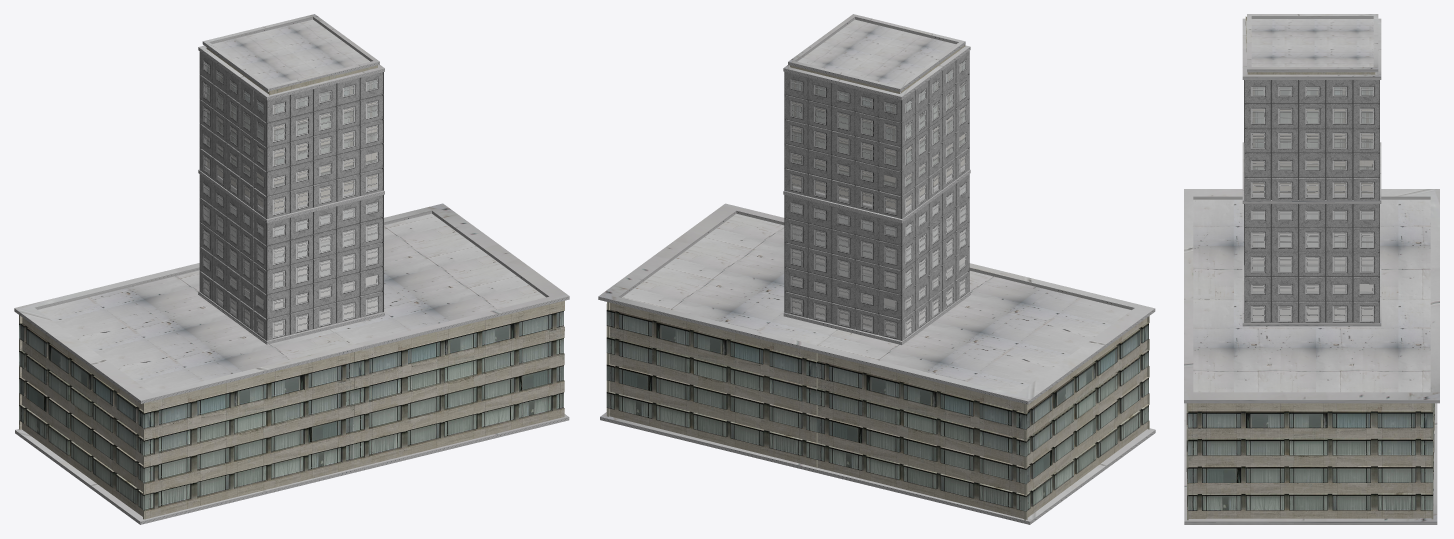
Rendered from poor.glb.
The picture shows the model from 3 angles, left to right: view 1: azimuth 30°, elevation 25°; view 2: azimuth 150°, elevation 25°; view 3: azimuth 270°, elevation 25°; orthographic projection.
Visible parts, largest first — view 1: _MeshInstance3D_51, _MeshInstance3D_52, _MeshInstance3D_53, _MeshInstance3D_57, _MeshInstance3D_54, _MeshInstance3D_70, _MeshInstance3D_69, _MeshInstance3D_58, _MeshInstance3D_55, _MeshInstance3D_59, _MeshInstance3D_63; view 2: _MeshInstance3D_51, _MeshInstance3D_52, _MeshInstance3D_53, _MeshInstance3D_57, _MeshInstance3D_70, _MeshInstance3D_54, _MeshInstance3D_58, _MeshInstance3D_69, _MeshInstance3D_55, _MeshInstance3D_59, _MeshInstance3D_63; view 3: _MeshInstance3D_52, _MeshInstance3D_51, _MeshInstance3D_53, _MeshInstance3D_70, _MeshInstance3D_54, _MeshInstance3D_69, _MeshInstance3D_58, _MeshInstance3D_55, _MeshInstance3D_63.
Part boxes in pixels (<box>): _MeshInstance3D_51: <box>19,300,564,519</box>; _MeshInstance3D_52: <box>14,203,569,524</box>; _MeshInstance3D_53: <box>199,51,383,426</box>; _MeshInstance3D_57: <box>199,174,383,340</box>; _MeshInstance3D_54: <box>204,62,377,430</box>; _MeshInstance3D_70: <box>202,14,379,196</box>; _MeshInstance3D_69: <box>206,47,377,211</box>; _MeshInstance3D_58: <box>204,185,376,335</box>; _MeshInstance3D_55: <box>198,45,384,218</box>; _MeshInstance3D_59: <box>198,169,384,344</box>; _MeshInstance3D_63: <box>198,291,384,343</box>; _MeshInstance3D_51: <box>606,302,1149,520</box>; _MeshInstance3D_52: <box>598,203,1155,524</box>; _MeshInstance3D_53: <box>784,51,969,334</box>; _MeshInstance3D_57: <box>784,174,969,371</box>; _MeshInstance3D_70: <box>788,14,965,334</box>; _MeshInstance3D_54: <box>792,61,965,336</box>; _MeshInstance3D_58: <box>792,184,965,336</box>; _MeshInstance3D_69: <box>790,45,965,209</box>; _MeshInstance3D_55: <box>783,45,970,223</box>; _MeshInstance3D_59: <box>784,169,970,344</box>; _MeshInstance3D_63: <box>783,291,970,343</box>; _MeshInstance3D_52: <box>1184,189,1439,524</box>; _MeshInstance3D_51: <box>1186,403,1434,520</box>; _MeshInstance3D_53: <box>1244,80,1379,322</box>; _MeshInstance3D_70: <box>1247,14,1378,196</box>; _MeshInstance3D_54: <box>1252,87,1373,320</box>; _MeshInstance3D_69: <box>1245,16,1375,193</box>; _MeshInstance3D_58: <box>1253,212,1372,320</box>; _MeshInstance3D_55: <box>1242,18,1381,203</box>; _MeshInstance3D_63: <box>1242,265,1381,326</box>.
Size of the model in its own units: 4.42 by 3.68 by 2.26.
6 materials, 4 textured.
